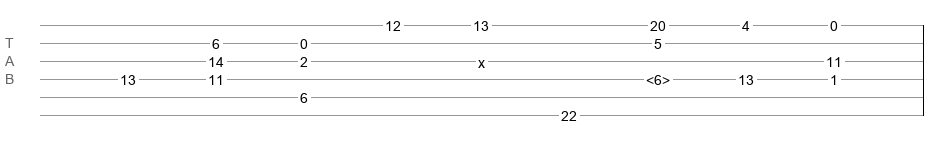0: (300, 36, 308, 46), (830, 18, 838, 28)
1: (830, 72, 838, 82)
11: (208, 72, 224, 82), (826, 54, 842, 64)
12: (385, 18, 401, 28)
13: (120, 72, 136, 82), (473, 18, 489, 28), (738, 72, 754, 82)
14: (208, 54, 224, 64)
2: (300, 54, 308, 64)
20: (650, 18, 666, 28)
22: (561, 108, 577, 118)
4: (742, 18, 750, 28)
5: (654, 36, 662, 46)
6: (212, 36, 220, 46), (300, 90, 308, 100)
harmonic: (646, 72, 670, 82)
x: (478, 55, 485, 63)
